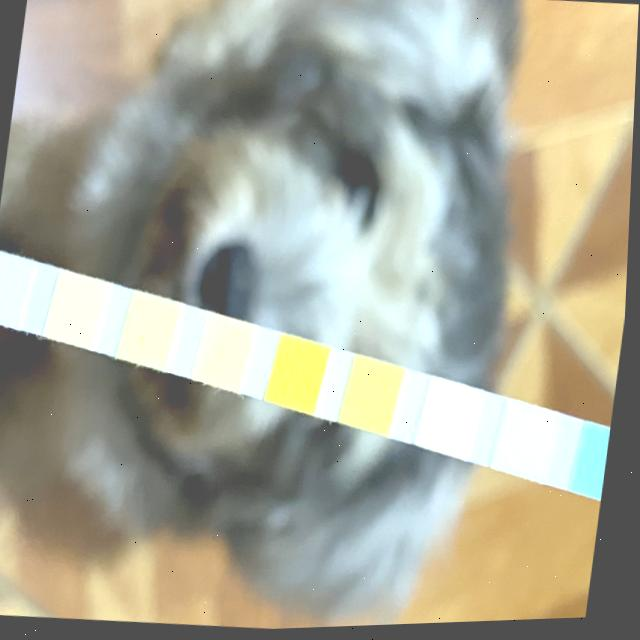Bilirubin: (503, 410, 556, 471)
Blood: (276, 346, 326, 403)
Glucose: (579, 436, 614, 493)
Ketone: (423, 383, 476, 447)
Nitrite: (0, 259, 27, 314)
Protein: (124, 301, 179, 361)
SpGravity: (348, 365, 401, 426)
Urobilinogen: (54, 279, 104, 338)
pH: (202, 324, 248, 380)
